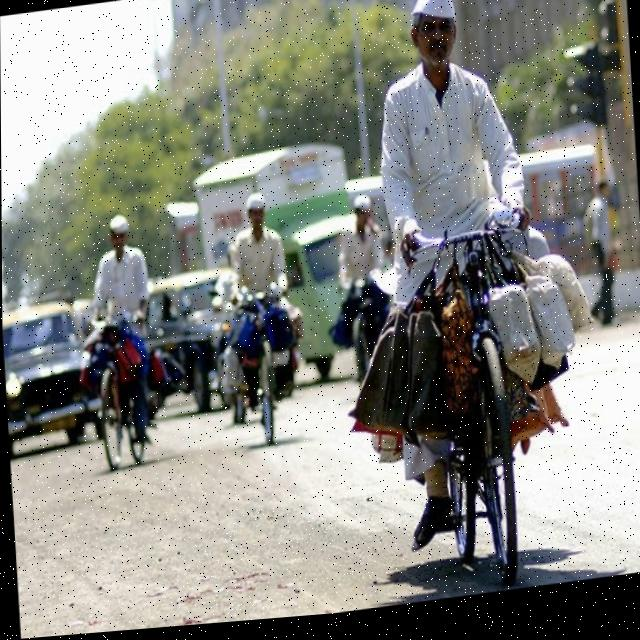illegal_helmet: (406, 0, 463, 86)
